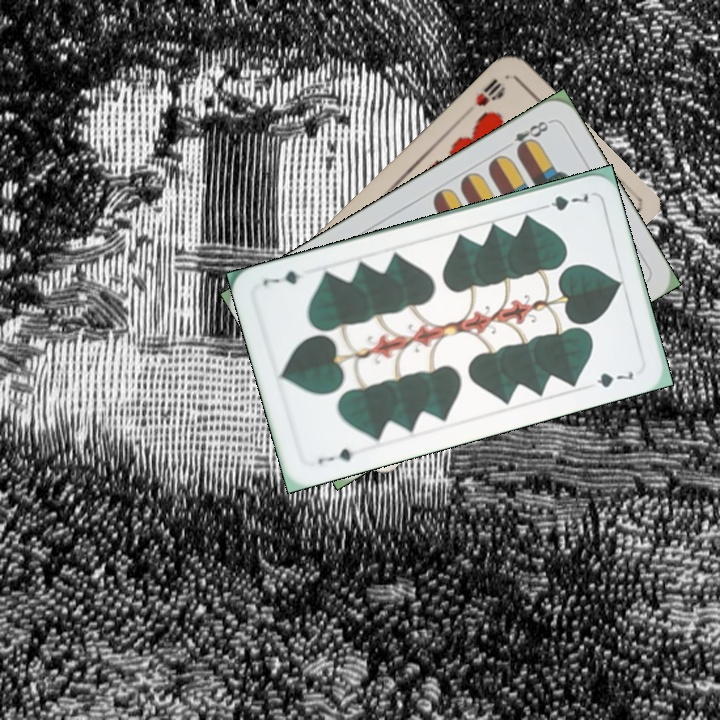E8: (499, 116, 553, 156)
G7: (535, 188, 591, 214), (313, 444, 364, 467)
H10: (471, 74, 509, 109)
